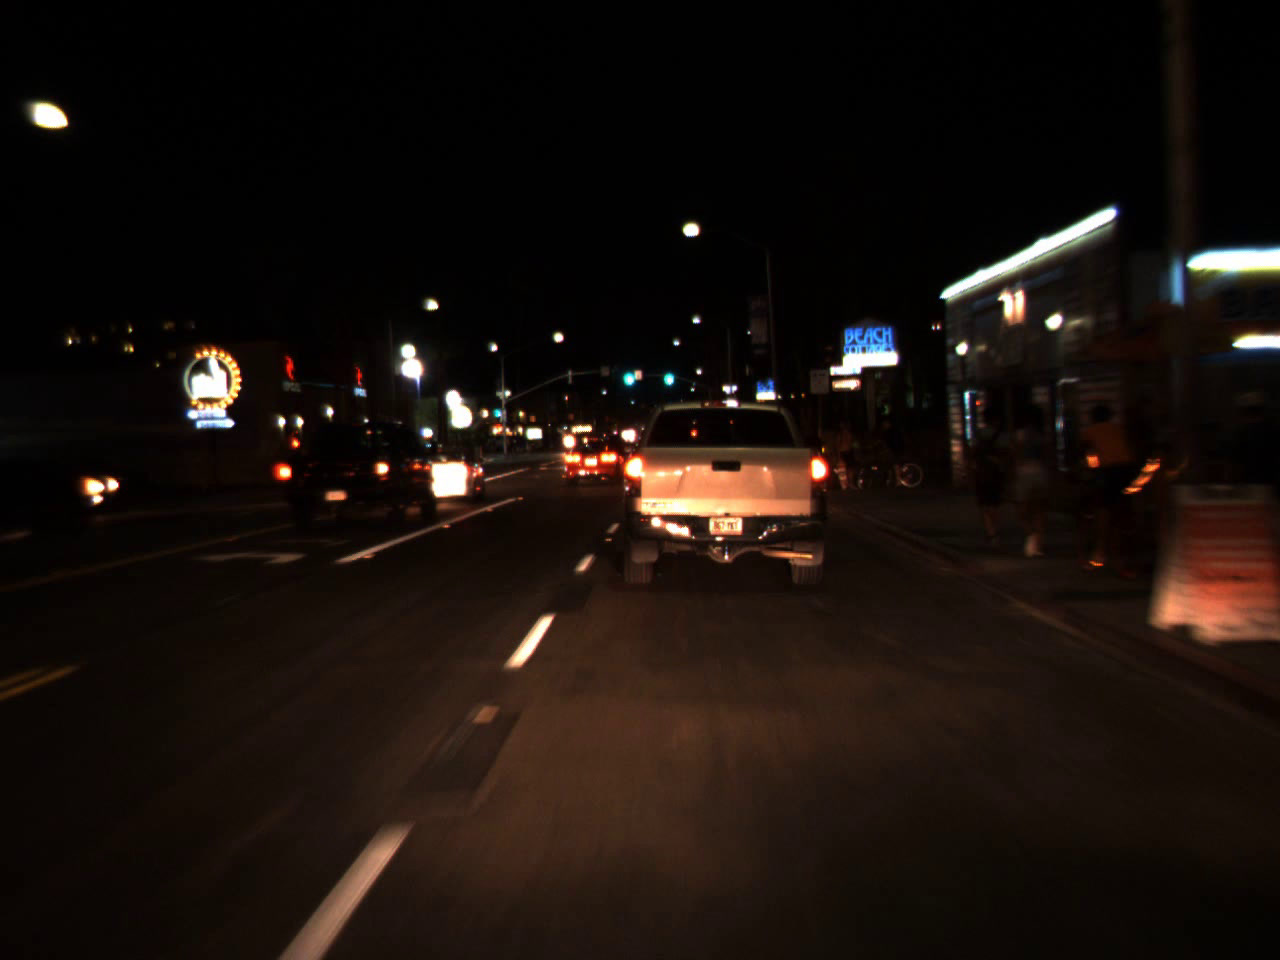go: (618, 357, 639, 390), (659, 359, 675, 389), (494, 401, 501, 419)
